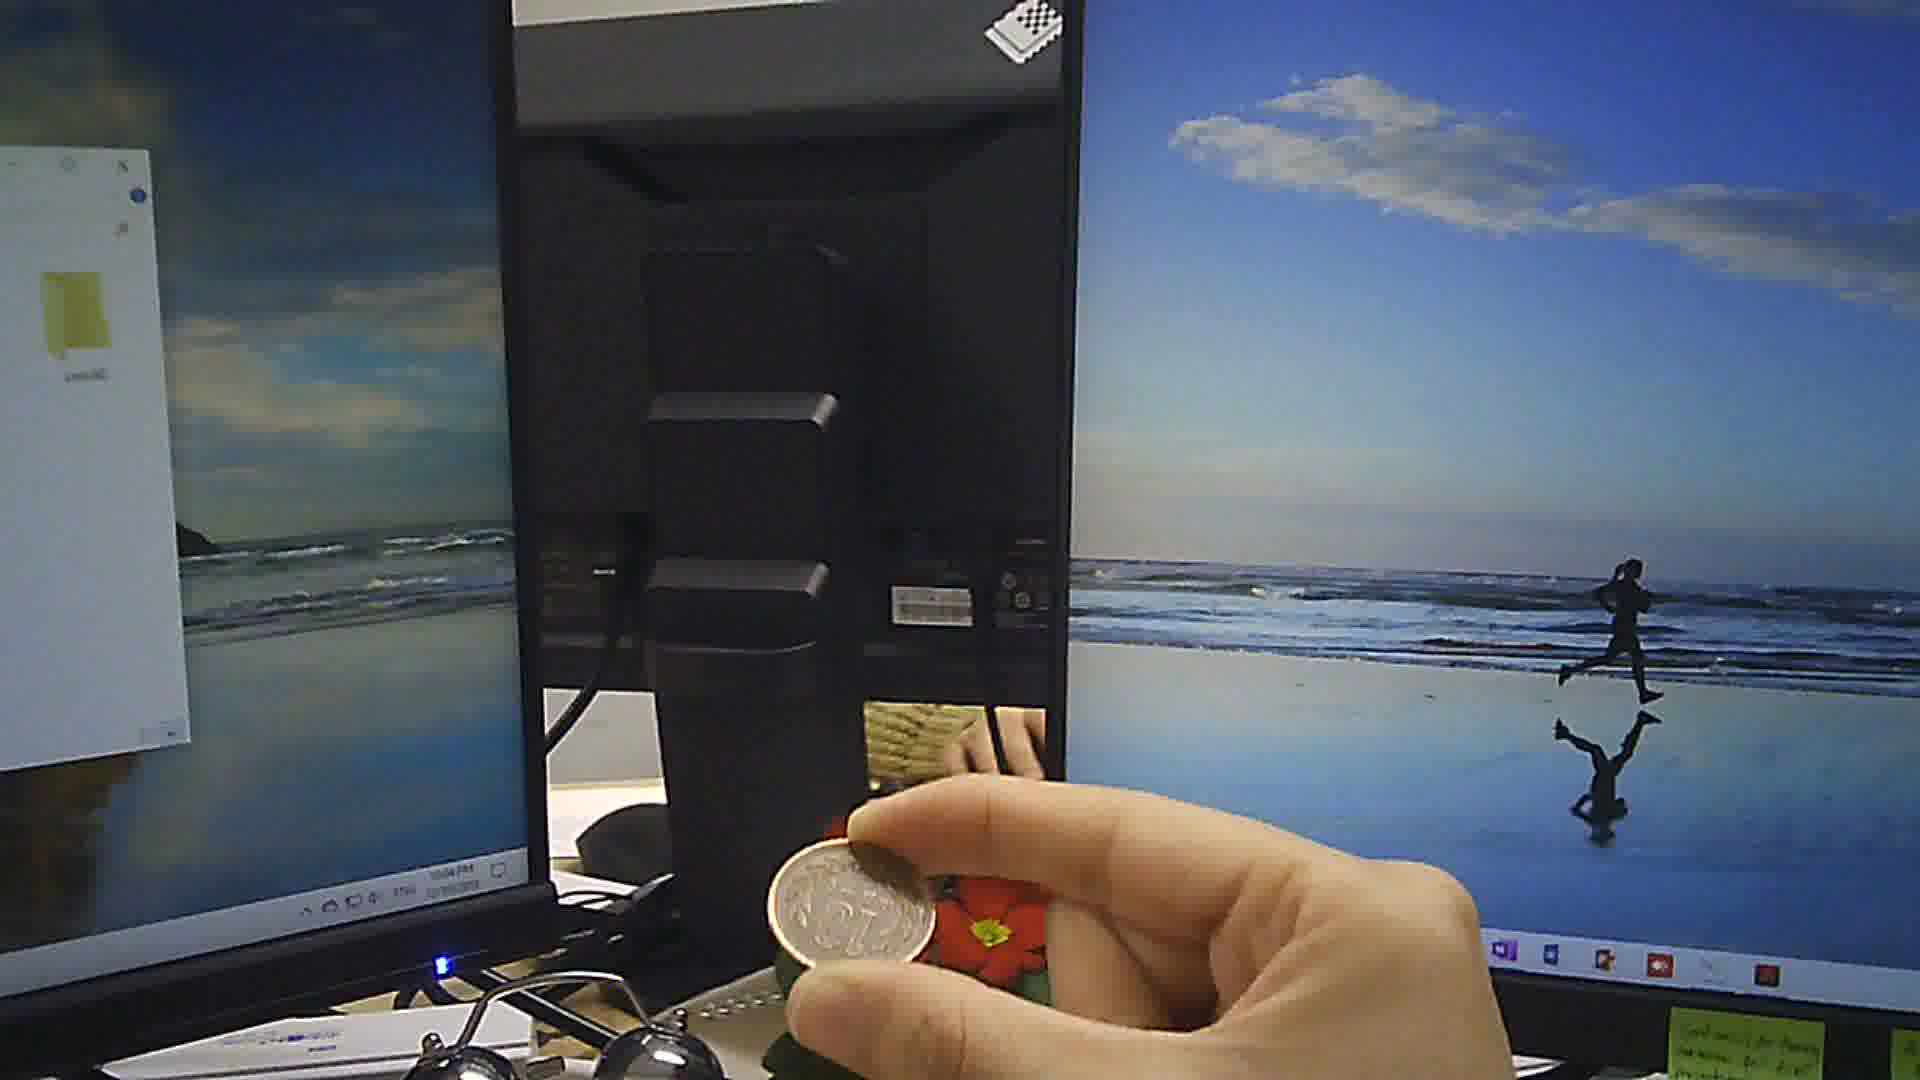10 Yen: (756, 827, 961, 978)
